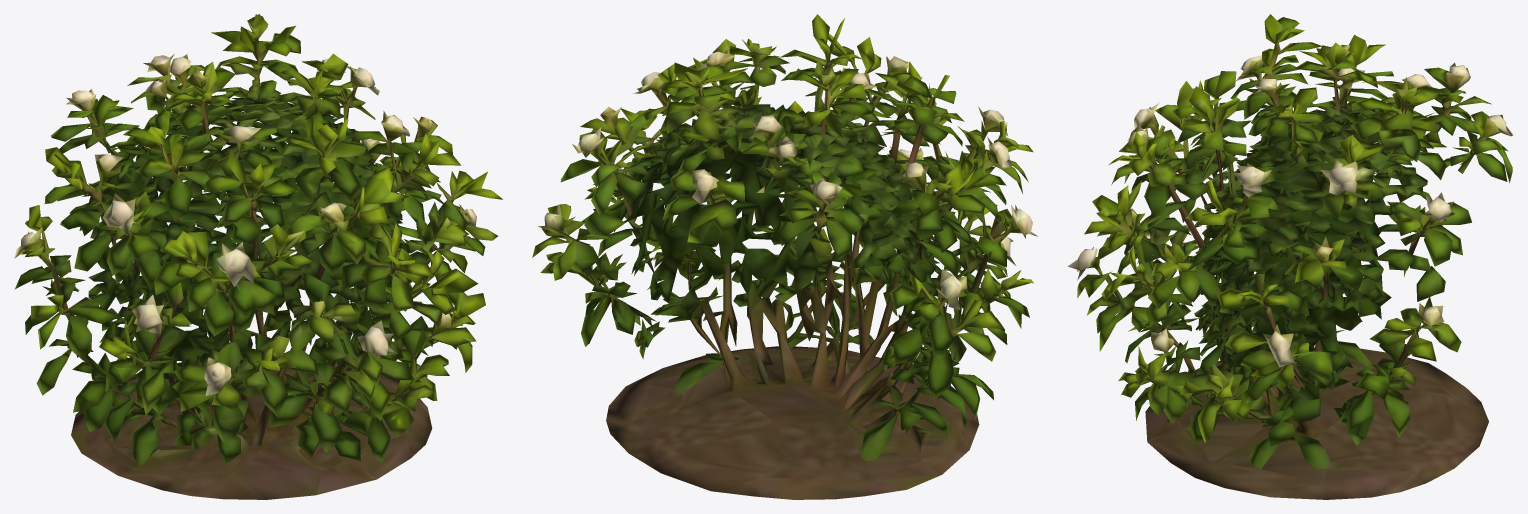
Rendered from shrub_round.glb.
3 views of the same model, side by side, from view 1: azimuth 30°, elevation 25°; view 2: azimuth 150°, elevation 25°; view 3: azimuth 270°, elevation 25° (orthographic). The views are drawn at different scales.
Visible parts, largest first — view 1: shrub_round_hd; view 2: shrub_round_hd; view 3: shrub_round_hd.
Boxes of the visible parts, left/top/right/bottom form: shrub_round_hd: left=14, top=14, right=502, bottom=499; shrub_round_hd: left=532, top=14, right=1037, bottom=499; shrub_round_hd: left=1067, top=14, right=1513, bottom=499.
Size of what is drawn, in the model's own units: 0.9988 by 0.8325 by 0.919.
Materials: 1 (1 with a texture image).
